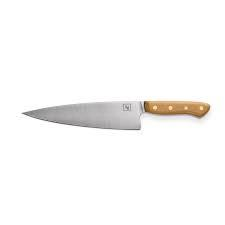Knife: (21, 99, 210, 130)
